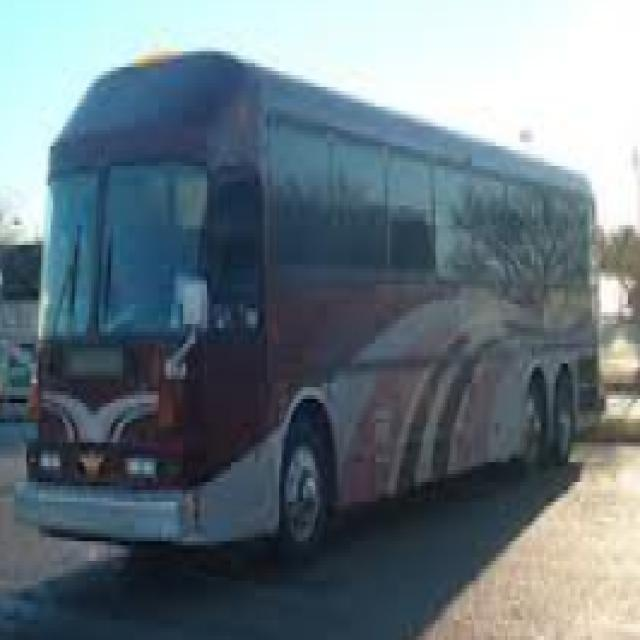bus_front: (15, 42, 604, 578)
